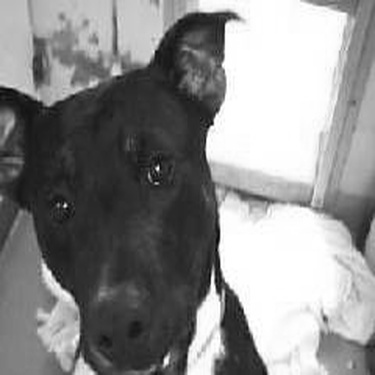dog: (3, 7, 370, 372)
